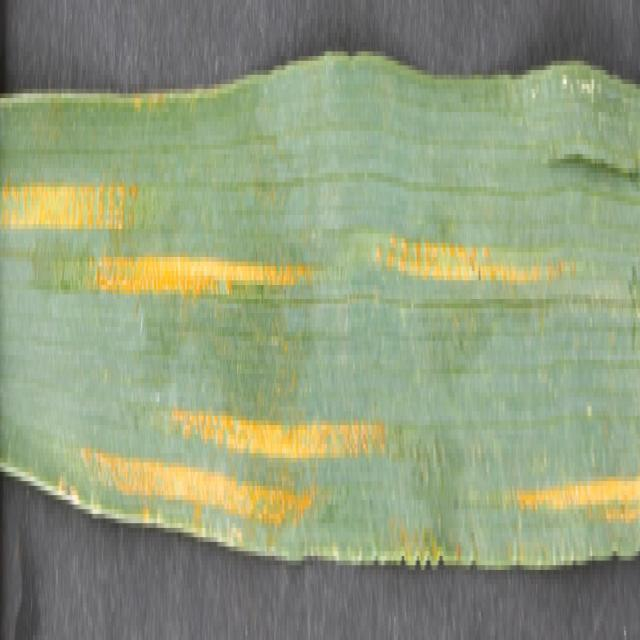leaf rust: (1, 135, 639, 556)
